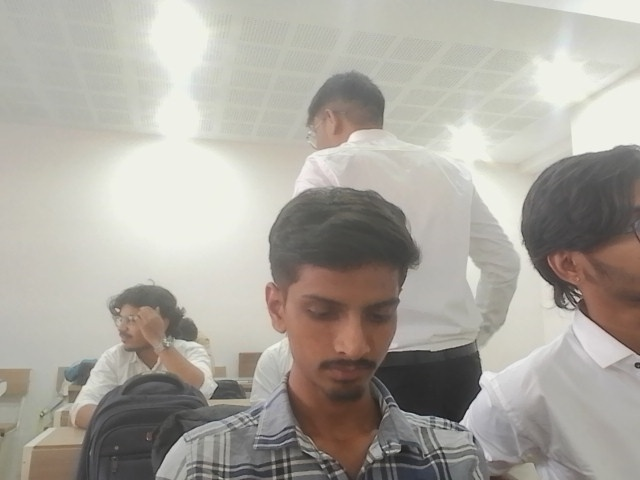light_on: (142, 10, 214, 181), (536, 67, 601, 110)
person: (152, 184, 494, 479), (284, 75, 512, 421), (462, 144, 639, 479), (68, 285, 233, 434)
